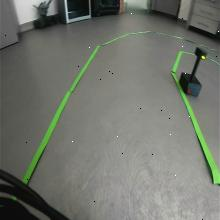green: (194, 46, 207, 61)
